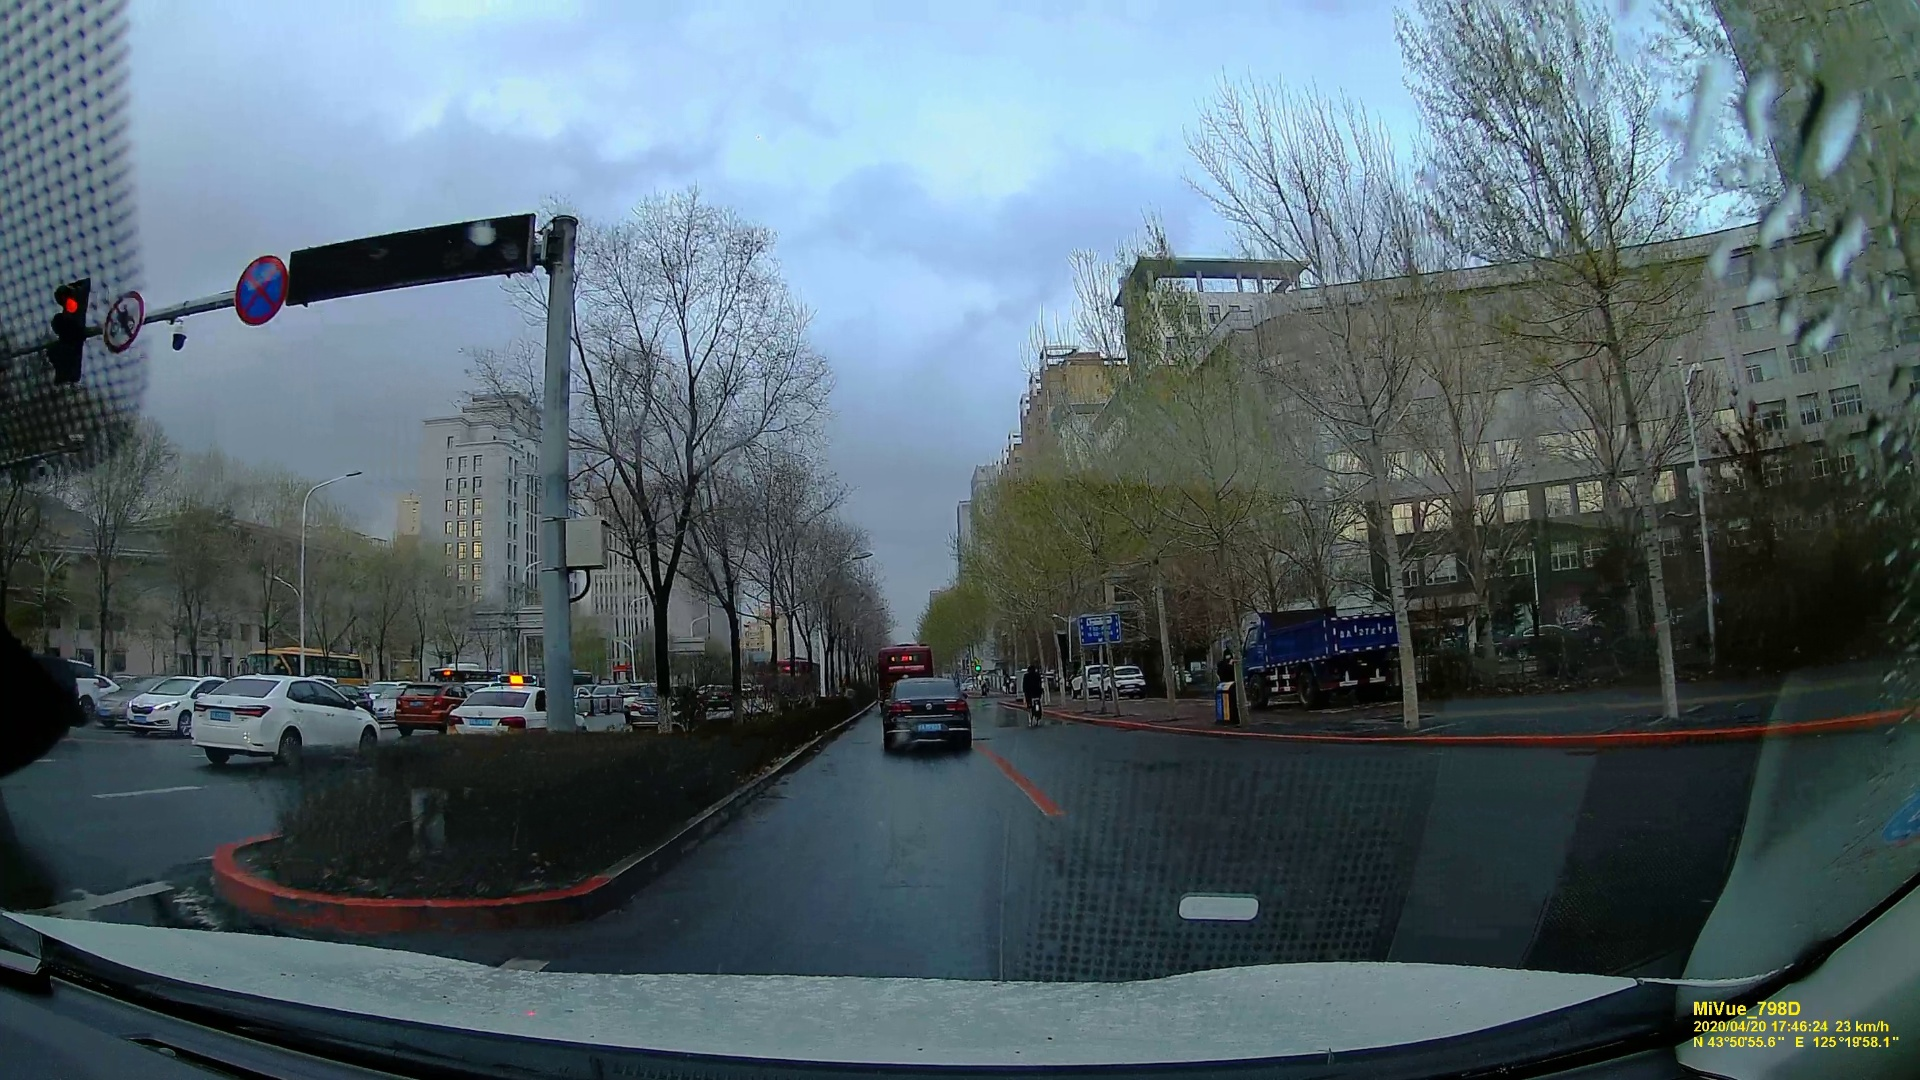bus: (877, 643, 930, 683)
person: (1024, 663, 1044, 723), (1217, 650, 1235, 708)
traffic_sign: (234, 250, 290, 334), (46, 275, 90, 357), (102, 288, 141, 359), (1076, 613, 1122, 645)
truck: (1238, 609, 1402, 702)
vehicle: (186, 670, 373, 767), (875, 673, 976, 751), (449, 683, 549, 741)
